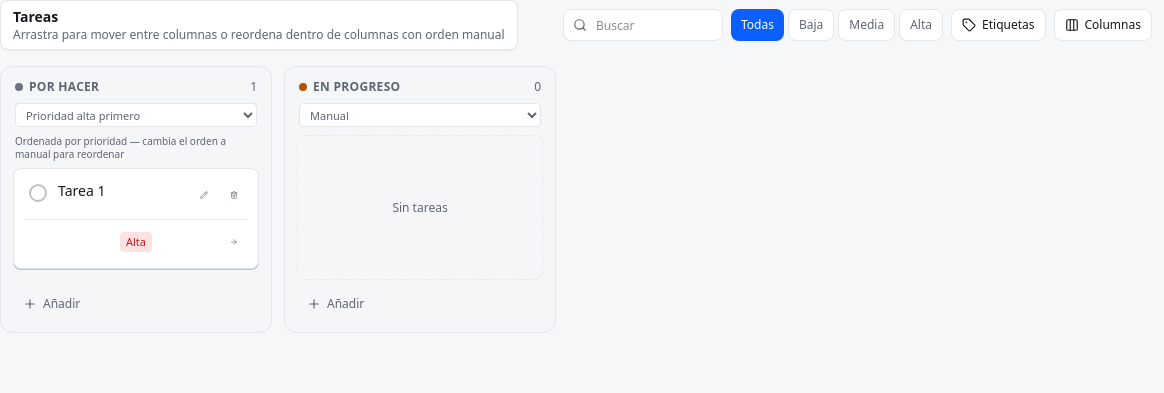
Scenario: SL-21 — Renombrar una columna desde la cabecera del tablero › 5. Un 409 deja el campo abierto, con el foco dentro y el mensaje en role="alert"
Expected: the heading "Tarea 1" is shown, [58,179,105,200]
Click the button with aria-label "Renombrar columna: Por hacer": (64, 87) [29,79,99,95]
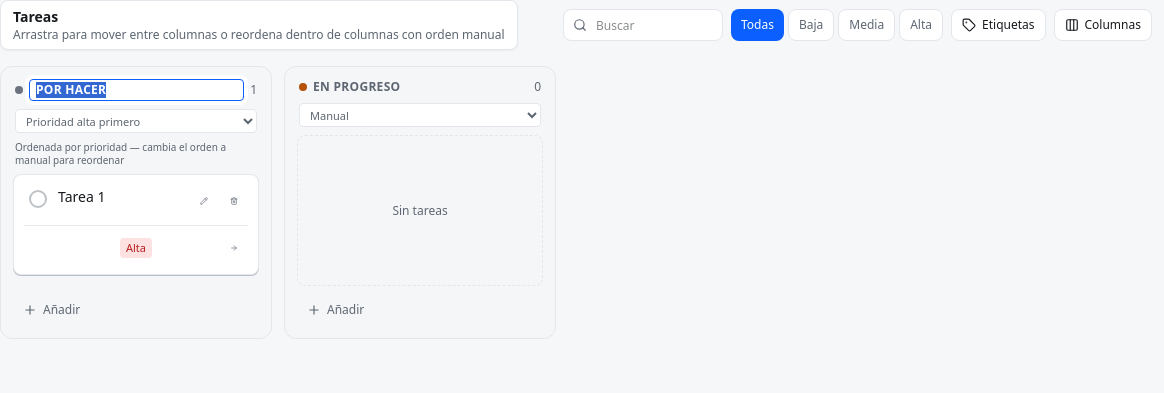
Replace the text in the field named "Nombre de la columna Por hacer" with "En progreso": (137, 90) [29,79,244,101]
Then press Enter
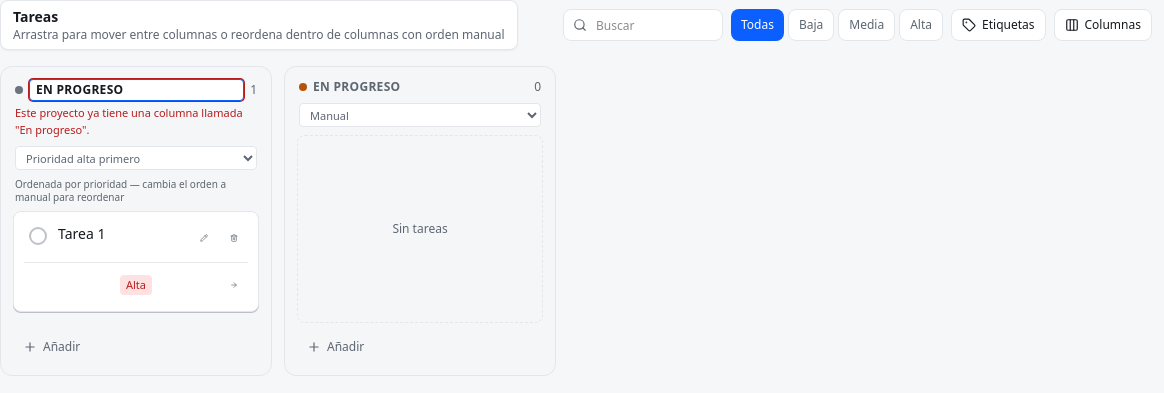
Expected: the message reads "Este proyecto ya tiene una columna llamada \"En progreso\".", [15,105,243,136]
